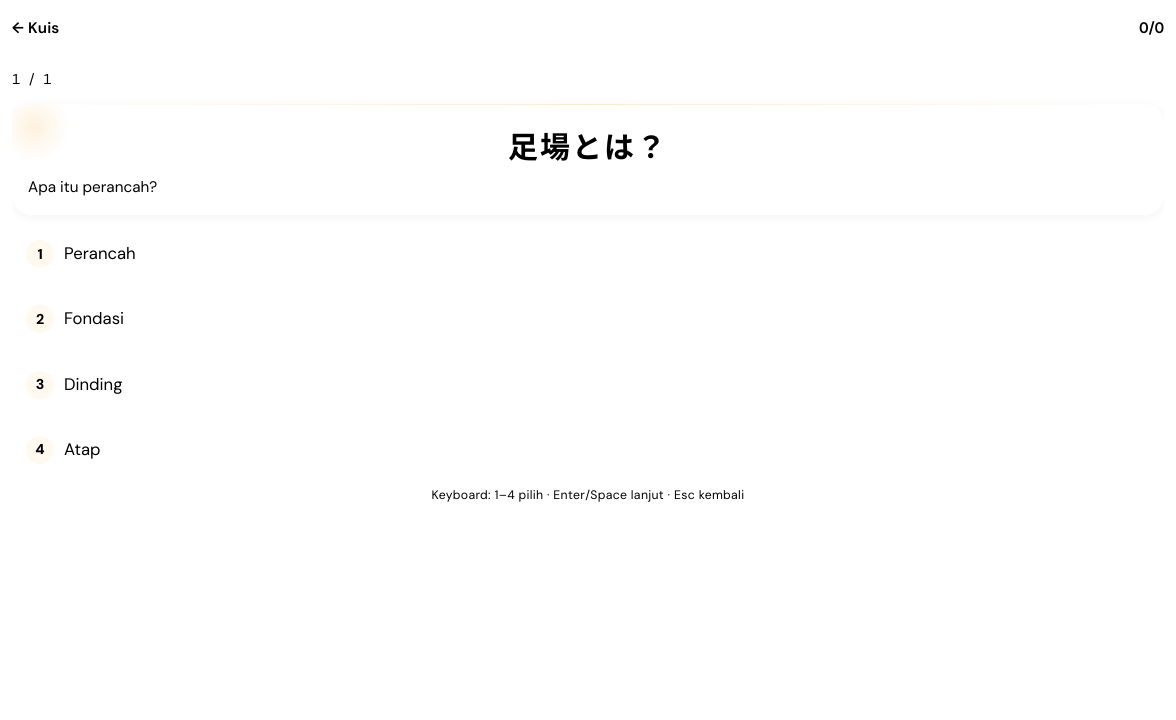
Test case: QuizShell › finish flow › shows ResultScreen after answering last question and clicking Lihat Hasil
Click the text "Perancah". click: coordinates (100, 253)
box: x1=64 y1=242 x2=136 y2=264
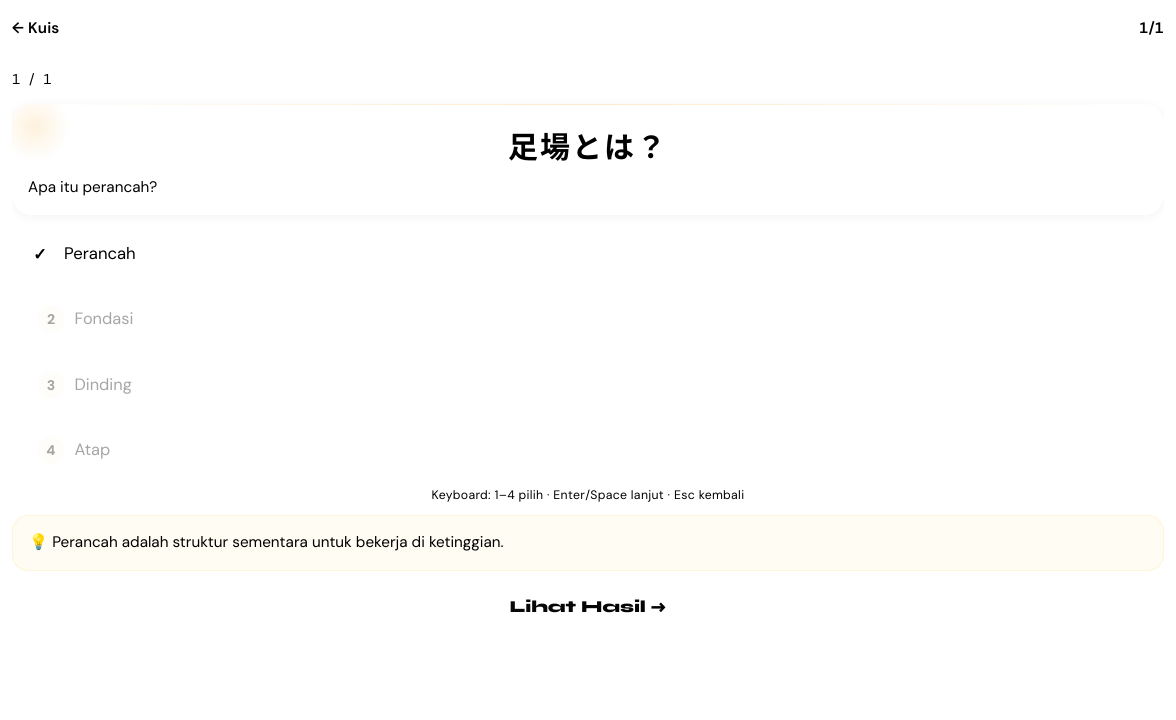
Click the button "Lihat Hasil →". click: coordinates (588, 607)
box: x1=12 y1=581 x2=1164 y2=633
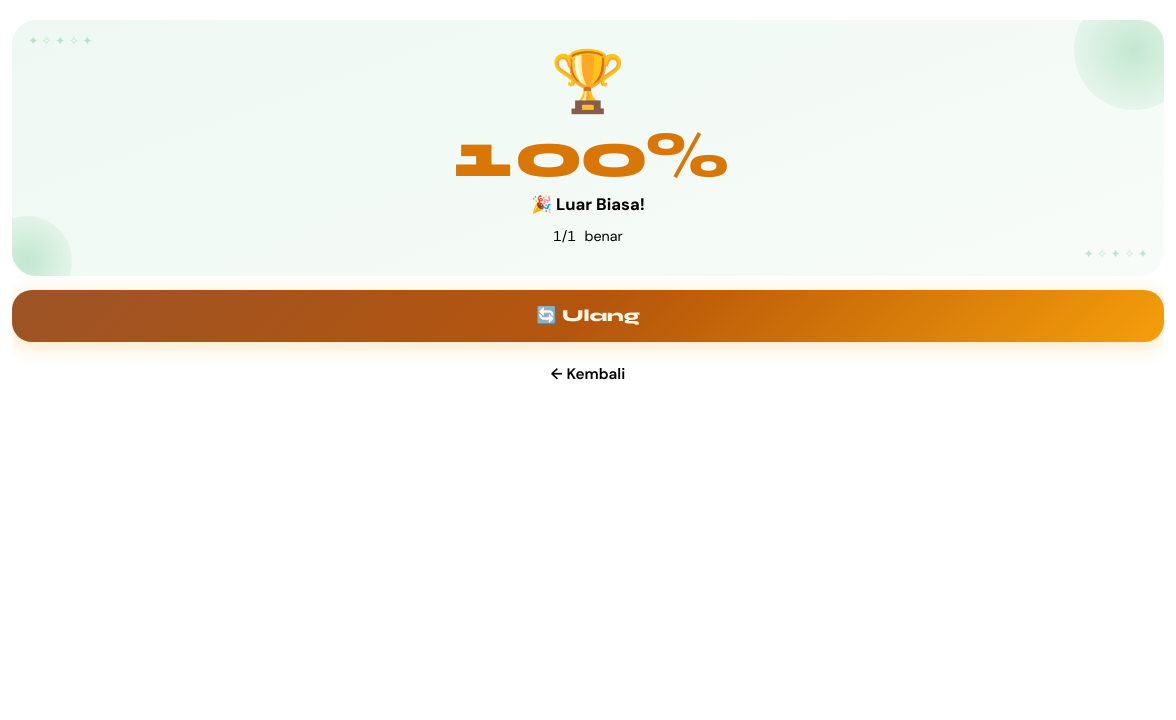
Now the text "100%" is shown, box x1=449 y1=117 x2=727 y2=194
